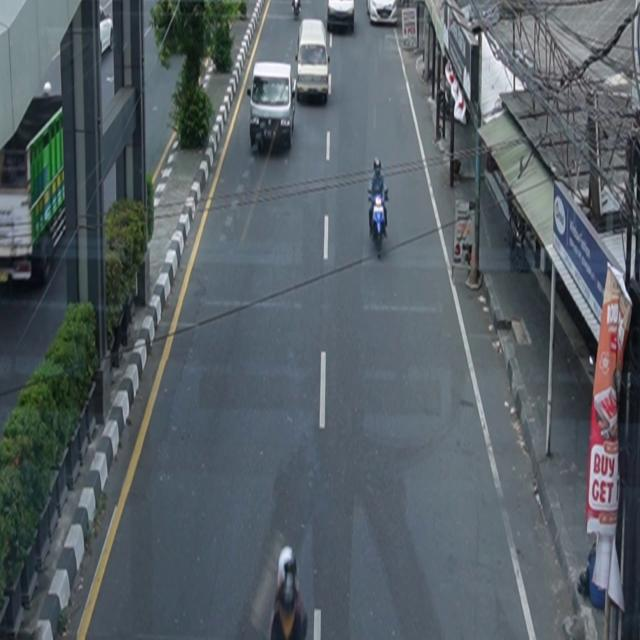bus: (1, 97, 68, 289)
car: (247, 61, 297, 153), (296, 20, 332, 106), (327, 1, 356, 33), (367, 1, 398, 26), (100, 6, 114, 57)
